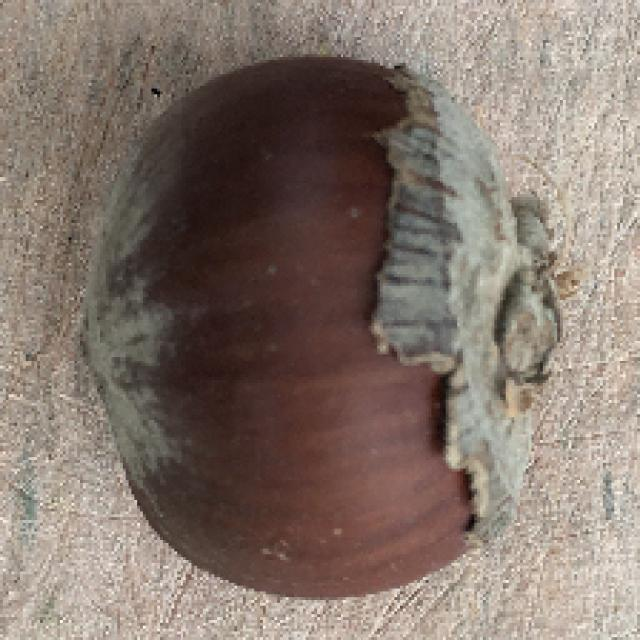damagedHazelnut: (62, 48, 586, 602)
